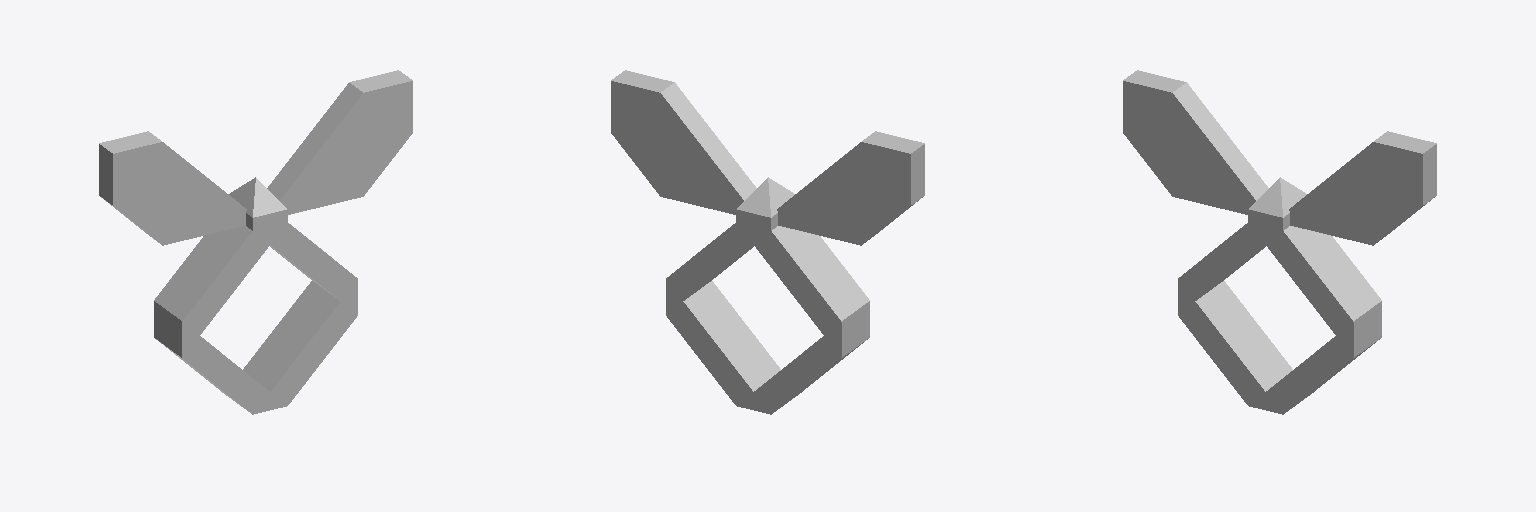
Rendered from ring_skies.obj.
3 renders of one model, left to right at view 1: azimuth 30°, elevation 25°; view 2: azimuth 150°, elevation 25°; view 3: azimuth 330°, elevation 25°, orthographic.
Parts seen in each view (by area): view 1: RING_DECO_SKIES_Plane.007, RING_BASE_SILVER_Cube.036; view 2: RING_DECO_SKIES_Plane.007, RING_BASE_SILVER_Cube.036; view 3: RING_DECO_SKIES_Plane.007, RING_BASE_SILVER_Cube.036.
Boxes of the visible parts, box(x1,y1,x2,y2) form: RING_DECO_SKIES_Plane.007: box(99, 70, 412, 245); RING_BASE_SILVER_Cube.036: box(154, 222, 357, 414); RING_DECO_SKIES_Plane.007: box(611, 70, 924, 245); RING_BASE_SILVER_Cube.036: box(666, 222, 869, 414); RING_DECO_SKIES_Plane.007: box(1123, 70, 1436, 245); RING_BASE_SILVER_Cube.036: box(1178, 222, 1381, 414).
Bounding box in the file's own units: 0.3774 × 0.3461 × 0.0625.